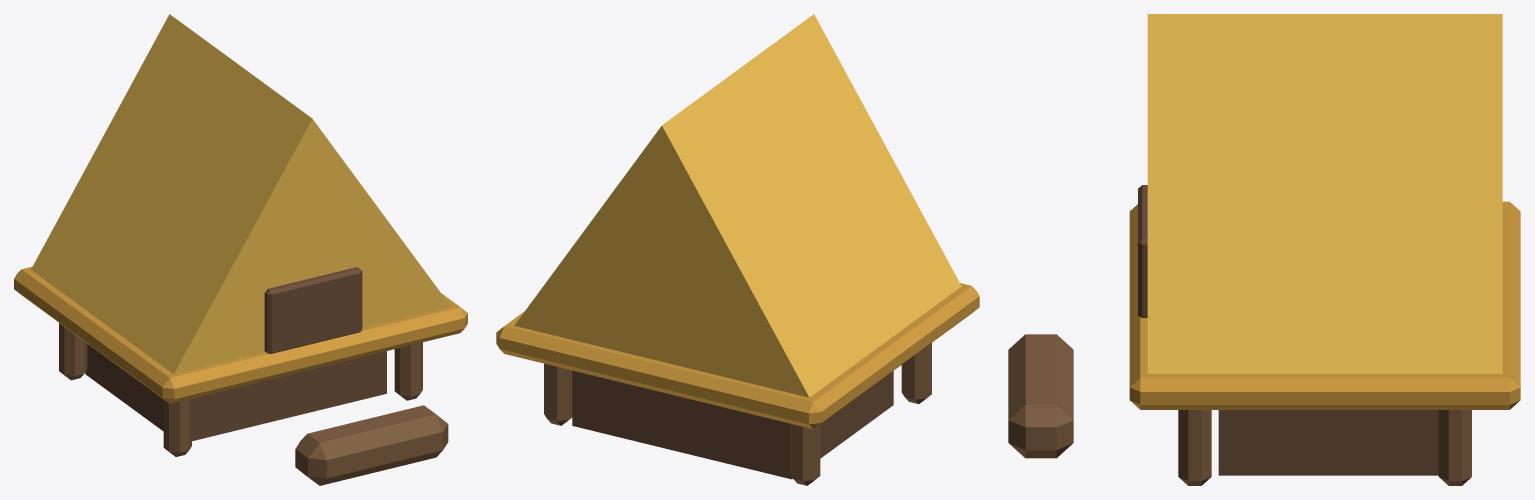
Rendered from ns-shelter.glb.
3 renders of one model, left to right at view 1: azimuth 30°, elevation 25°; view 2: azimuth 150°, elevation 25°; view 3: azimuth 270°, elevation 25°, orthographic. The views are drawn at different scales.
Parts seen in each view (by area): view 1: Cube; view 2: Cube; view 3: Cube.
Part boxes in pixels (bbox=[...]): Cube: bbox=[14, 14, 467, 485]; Cube: bbox=[496, 14, 979, 485]; Cube: bbox=[1008, 14, 1520, 485].
Bounding box in the file's own units: 0.37 × 0.372 × 0.4325.
